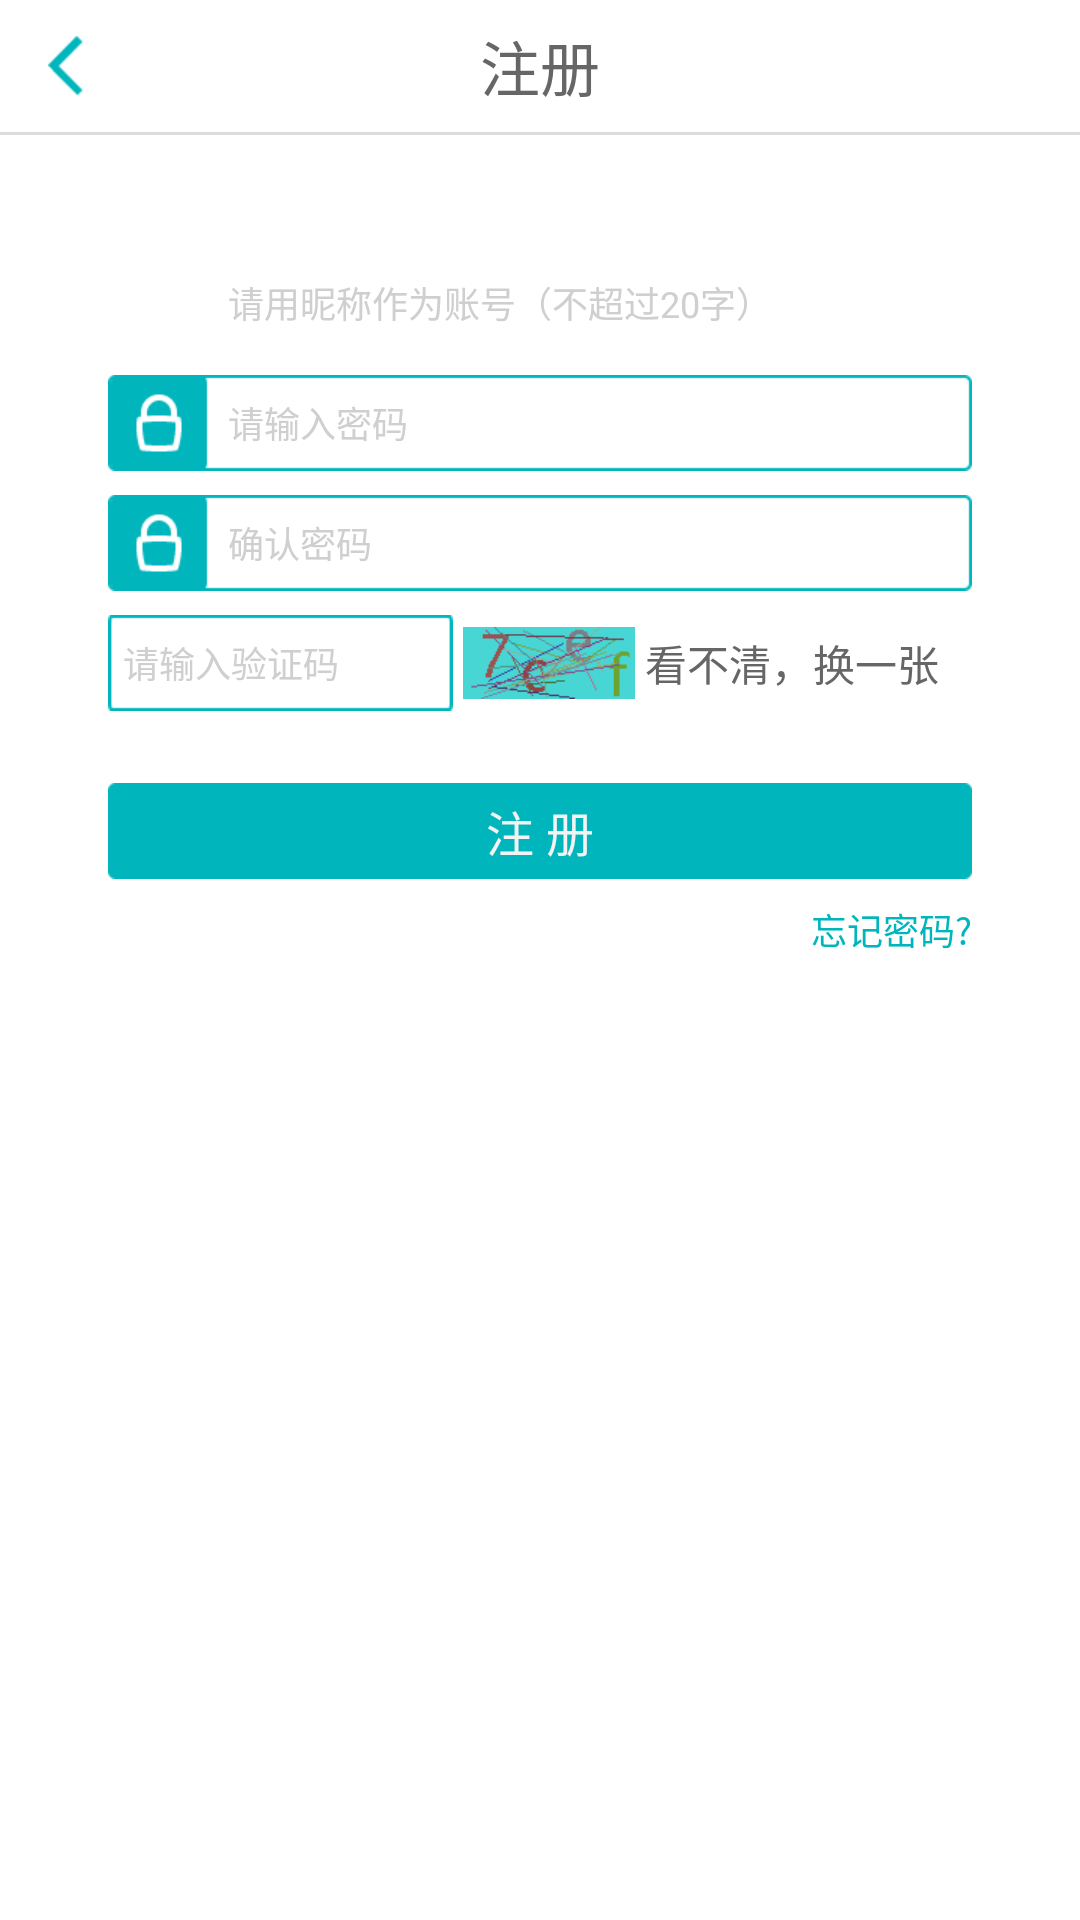

Named icons in this screenshot (1080*1920) and their centers, (x=x, y=y):
location back: (x=65, y=66)
verification code: (x=549, y=663)
